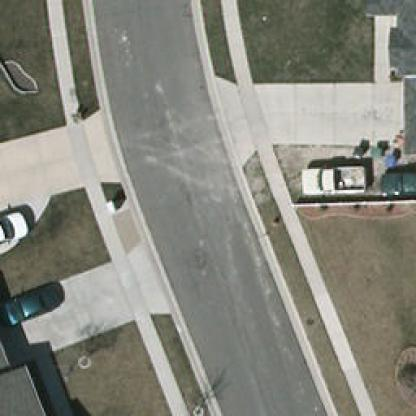car: (0, 280, 67, 328)
pickup: (294, 170, 366, 196), (0, 210, 34, 258)
